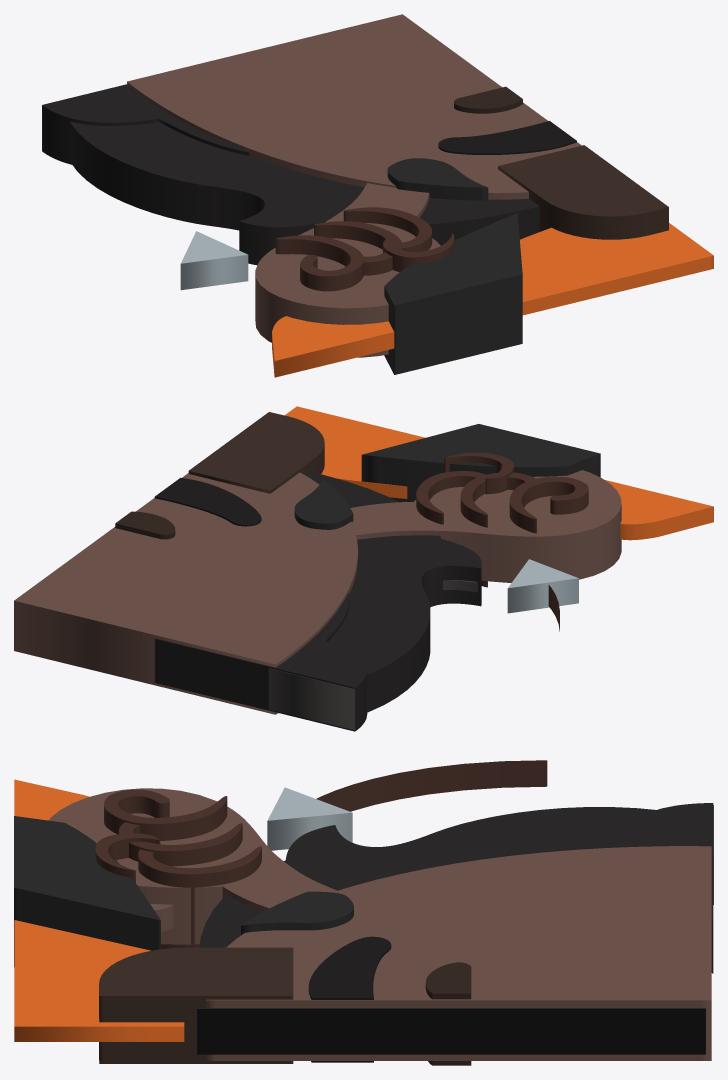
The model's file is emoji_u1f9cf_1f3ff.glb.
3 renders of one model, top to bottom at view 1: azimuth 30°, elevation 25°; view 2: azimuth 150°, elevation 25°; view 3: azimuth 270°, elevation 25°, orthographic. The views are drawn at different scales.
Parts seen in each view (by area): view 1: emoji_u1f9cf_1f3ff; view 2: emoji_u1f9cf_1f3ff; view 3: emoji_u1f9cf_1f3ff.
Boxes of the visible parts, x1,y1,x2,y2 form: emoji_u1f9cf_1f3ff: [42, 14, 713, 377]; emoji_u1f9cf_1f3ff: [14, 406, 713, 731]; emoji_u1f9cf_1f3ff: [14, 760, 713, 1065].
Bounding box in the file's own units: 0.0295 × 0.005 × 0.0335.
